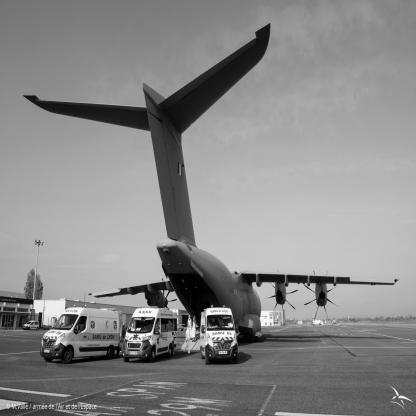A400M: (23, 22, 400, 351)
